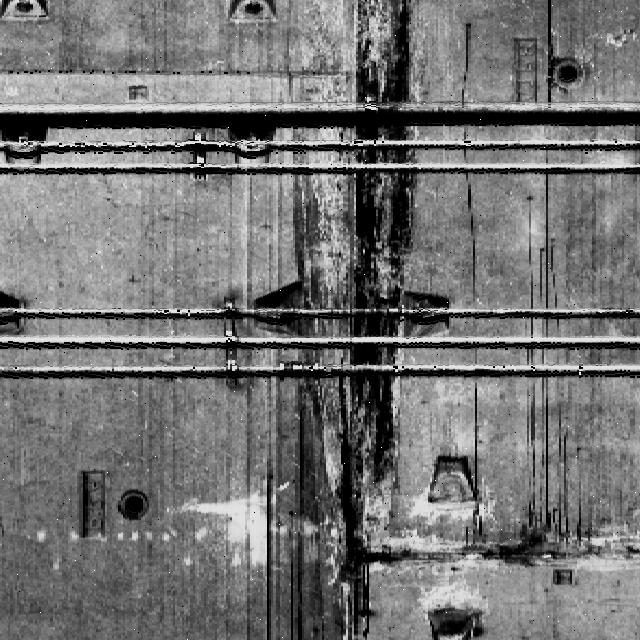leakage: (275, 3, 454, 639), (461, 174, 592, 571)
